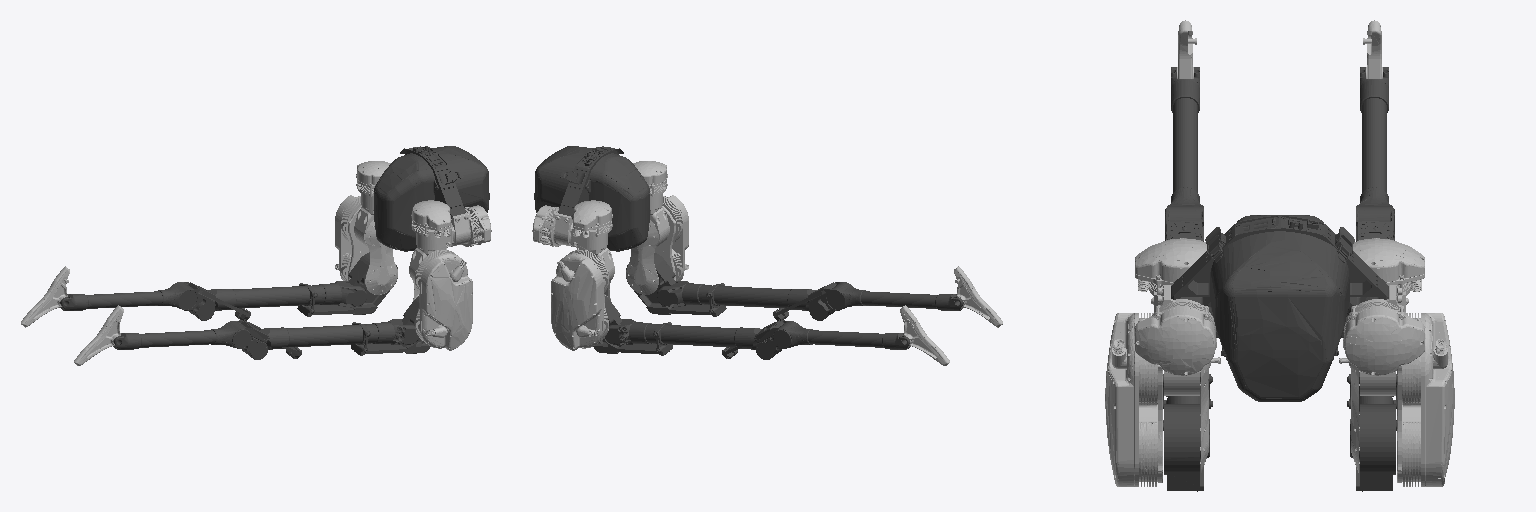
The robot description file, URDF, robot "cassie":
<?xml version="1.0" ?>
<!-- =================================================================================== -->
<!-- |    This document was autogenerated by xacro from cassie.xacro                   | -->
<!-- |    EDITING THIS FILE BY HAND IS NOT RECOMMENDED                                 | -->
<!-- =================================================================================== -->
<!-- Author: [author]
	   Email:  [email redacted]
     Date:   04/24/2016   -->
<!-- https://github.com/UMich-BipedLab/cassie_description/blob/master/urdf/cassie.urdf -->
<!-- * The meshes have been decimated to greatly reduce their size.
     * The mesh paths have been updated.
     * 'continuous' joint type has been replaced by 'revolute' when unrealistic lower and upper bounds were specified.
-->
<robot name="cassie" xmlns:xacro="http://ros.org/wiki/xacro">
  <link name="vectorNav">
    <inertial>
      <origin rpy="0 0 0" xyz="0 0 0"/>
      <mass value="0"/>
      <inertia ixx="0" ixy="0" ixz="0" iyy="0" iyz="0" izz="0"/>
    </inertial>
  </link>
  <link name="pelvis">
    <inertial>
      <origin rpy="0 0 0" xyz=".0507 0 .0284"/>
      <mass value="10.33"/>
      <inertia ixx=".0942" ixy=".000169" ixz=".015" iyy=".084" iyz=".000516" izz=".113"/>
    </inertial>
    <visual>
      <origin rpy="0 0 0" xyz="0 0 0"/>
      <geometry>
        <mesh filename="package://meshes/pelvis.stl" scale="1 1 1"/>
      </geometry>
      <material name="grey">
        <color rgba="0.35 0.35 0.35 1"/>
      </material>
    </visual>
  </link>
  <link name="left_pelvis_abduction">
    <inertial>
      <origin rpy="0 0 0" xyz="0 0 0"/>
      <mass value="0"/>
      <inertia ixx="0" ixy="0" ixz="0" iyy="0" iyz="0" izz="0"/>
    </inertial>
    <visual>
      <origin rpy="0 0 0" xyz="0 0 0"/>
      <geometry>
        <mesh filename="package://meshes/abduction.stl" scale="1 1 1"/>
      </geometry>
      <material name="light_grey">
        <color rgba="0.75 0.75 0.75 1"/>
      </material>
    </visual>
  </link>
  <link name="left_pelvis_rotation">
    <inertial>
      <origin rpy="0 0 0" xyz=".0257 0.0001 .0179"/>
      <mass value="1.82"/>
      <inertia ixx=".00272" ixy="7.03e-07" ixz=".00000153" iyy=".00559" iyz="2.61e-06" izz=".004640"/>
    </inertial>
    <visual>
      <origin rpy="0 0 0" xyz="0 0 0"/>
      <geometry>
        <mesh filename="package://meshes/yaw.stl" scale="1 1 1"/>
      </geometry>
      <material name="light_grey">
        <color rgba="0.75 0.75 0.75 1"/>
      </material>
    </visual>
  </link>
  <link name="left_hip">
    <inertial>
      <origin rpy="0 0 0" xyz="-.0557 0 0"/>
      <mass value="1.17"/>
      <inertia ixx=".000842" ixy=".000000246" ixz="-.000000625" iyy=".006080" iyz="-.00000004" izz=".006440"/>
    </inertial>
    <visual>
      <origin rpy="0 0 0" xyz="0 0 0"/>
      <geometry>
        <mesh filename="package://meshes/hip.stl" scale="1 1 1"/>
      </geometry>
      <material name="light_grey">
        <color rgba="0.75 0.75 0.75 1"/>
      </material>
    </visual>
  </link>
  <link name="left_thigh">
    <inertial>
      <origin rpy="0 0 0" xyz=".0598 .0001 -0.0358"/>
      <mass value="5.52"/>
      <inertia ixx=".018" ixy=".000284" ixz="-0.0117" iyy=".0563" iyz="-1.93e-05" izz=".0498"/>
    </inertial>
    <visual>
      <origin rpy="0 0 0" xyz="0 0 0"/>
      <geometry>
        <mesh filename="package://meshes/thigh.stl" scale="1 1 1"/>
      </geometry>
      <material name="light_grey">
        <color rgba="0.75 0.75 0.75 1"/>
      </material>
    </visual>
  </link>
  <link name="left_knee">
    <inertial>
      <origin rpy="0 0 0" xyz=".023 .0321 -0.0022"/>
      <mass value=".758"/>
      <inertia ixx=".002160" ixy=".000956" ixz="2.84e-06" iyy=".00144" iyz="7.39e-07" izz=".00334"/>
    </inertial>
    <visual>
      <origin rpy="0 0 0" xyz="0 0 0"/>
      <geometry>
        <mesh filename="package://meshes/knee-output.stl" scale="1 1 1"/>
      </geometry>
      <material name="grey">
        <color rgba="0.35 0.35 0.35 1"/>
      </material>
    </visual>
  </link>
  <link name="left_shin">
    <inertial>
      <origin rpy="0 0 0" xyz=".1834 .0012 0.0002"/>
      <mass value=".577"/>
      <inertia ixx=".000360" ixy=".000334" ixz="-1.94e-07" iyy=".0341" iyz="2.65e-07" izz=".0341"/>
    </inertial>
    <visual>
      <origin rpy="0 0 0" xyz="0 0 0"/>
      <geometry>
        <mesh filename="package://meshes/shin-bone.stl" scale="1 1 1"/>
      </geometry>
      <material name="grey">
        <color rgba="0.35 0.35 0.35 1"/>
      </material>
    </visual>
  </link>
  <link name="left_tarsus">
    <inertial>
      <origin rpy="0 0 0" xyz=".1105 -.0306 -0.0013"/>
      <mass value=".782"/>
      <inertia ixx=".00113" ixy="-.00288" ixz="-6.33e-05" iyy=".0231" iyz="3.62e-05" izz=".0239"/>
    </inertial>
    <visual>
      <origin rpy="0 0 0" xyz="0 0 0"/>
      <geometry>
        <mesh filename="package://meshes/tarsus.stl" scale="1 1 1"/>
      </geometry>
      <material name="grey">
        <color rgba="0.35 0.35 0.35 1"/>
      </material>
    </visual>
  </link>
  <link name="left_toe">
    <inertial>
      <origin rpy="0 0 0" xyz=".0047 .0275 -0.0001"/>
      <mass value=".15"/>
      <inertia ixx=".000287" ixy="-.0000986" ixz="-1.46e-06" iyy=".000171" iyz="1.72e-07" izz=".000449"/>
    </inertial>
    <visual>
      <origin rpy="0 0 0" xyz="0 0 0"/>
      <geometry>
        <mesh filename="package://meshes/toe.stl" scale="1 1 1"/>
      </geometry>
      <material name="light_grey">
        <color rgba="0.75 0.75 0.75 1"/>
      </material>
    </visual>
  </link>
  <link name="right_pelvis_abduction">
    <inertial>
      <origin rpy="0 0 0" xyz="0 0 0"/>
      <mass value="0"/>
      <inertia ixx="0" ixy="0" ixz="0" iyy="0" iyz="0" izz="0"/>
    </inertial>
    <visual>
      <origin rpy="0 0 0" xyz="0 0 0"/>
      <geometry>
        <mesh filename="package://meshes/abduction_mirror.stl" scale="1 1 1"/>
      </geometry>
      <material name="light_grey">
        <color rgba="0.75 0.75 0.75 1"/>
      </material>
    </visual>
  </link>
  <link name="right_pelvis_rotation">
    <inertial>
      <origin rpy="0 0 0" xyz=".0257 -0.0001 .0179"/>
      <mass value="1.82"/>
      <inertia ixx=".00272" ixy="-7.03e-07" ixz=".00000153" iyy=".00559" iyz="-2.61e-06" izz=".004640"/>
    </inertial>
    <visual>
      <origin rpy="0 0 0" xyz="0 0 0"/>
      <geometry>
        <mesh filename="package://meshes/yaw_mirror.stl" scale="1 1 1"/>
      </geometry>
      <material name="light_grey">
        <color rgba="0.75 0.75 0.75 1"/>
      </material>
    </visual>
  </link>
  <link name="right_hip">
    <inertial>
      <origin rpy="0 0 0" xyz="-.0557 0 0"/>
      <mass value="1.17"/>
      <inertia ixx=".000842" ixy=".000000246" ixz="-.000000625" iyy=".006080" iyz="-.00000004" izz=".006440"/>
    </inertial>
    <visual>
      <origin rpy="0 0 0" xyz="0 0 0"/>
      <geometry>
        <mesh filename="package://meshes/hip_mirror.stl" scale="1 1 1"/>
      </geometry>
      <material name="light_grey">
        <color rgba="0.75 0.75 0.75 1"/>
      </material>
    </visual>
  </link>
  <link name="right_thigh">
    <inertial>
      <origin rpy="0 0 0" xyz=".0598 .0001 0.0358"/>
      <mass value="5.52"/>
      <inertia ixx=".018" ixy=".000284" ixz="0.0117" iyy=".0563" iyz="1.93e-05" izz=".0498"/>
    </inertial>
    <visual>
      <origin rpy="0 0 0" xyz="0 0 0"/>
      <geometry>
        <mesh filename="package://meshes/thigh_mirror.stl" scale="1 1 1"/>
      </geometry>
      <material name="light_grey">
        <color rgba="0.75 0.75 0.75 1"/>
      </material>
    </visual>
  </link>
  <link name="right_knee">
    <inertial>
      <origin rpy="0 0 0" xyz=".023 .0321 0.0022"/>
      <mass value=".758"/>
      <inertia ixx=".002160" ixy=".000956" ixz="-2.84e-06" iyy=".00144" iyz="-7.39e-07" izz=".00334"/>
    </inertial>
    <visual>
      <origin rpy="0 0 0" xyz="0 0 0"/>
      <geometry>
        <mesh filename="package://meshes/knee-output_mirror.stl" scale="1 1 1"/>
      </geometry>
      <material name="grey">
        <color rgba="0.35 0.35 0.35 1"/>
      </material>
    </visual>
  </link>
  <link name="right_shin">
    <inertial>
      <origin rpy="0 0 0" xyz=".1834 .0012 -0.0002"/>
      <mass value=".577"/>
      <inertia ixx=".000360" ixy=".000334" ixz="1.94e-07" iyy=".0341" iyz="-2.65e-07" izz=".0341"/>
    </inertial>
    <visual>
      <origin rpy="0 0 0" xyz="0 0 0"/>
      <geometry>
        <mesh filename="package://meshes/shin-bone_mirror.stl" scale="1 1 1"/>
      </geometry>
      <material name="grey">
        <color rgba="0.35 0.35 0.35 1"/>
      </material>
    </visual>
  </link>
  <link name="right_tarsus">
    <inertial>
      <origin rpy="0 0 0" xyz=".1105 -.0306 0.0013"/>
      <mass value=".782"/>
      <inertia ixx=".00113" ixy="-.00288" ixz="6.33e-05" iyy=".0231" iyz="-3.62e-05" izz=".0239"/>
    </inertial>
    <visual>
      <origin rpy="0 0 0" xyz="0 0 0"/>
      <geometry>
        <mesh filename="package://meshes/tarsus_mirror.stl" scale="1 1 1"/>
      </geometry>
      <material name="grey">
        <color rgba="0.35 0.35 0.35 1"/>
      </material>
    </visual>
  </link>
  <link name="right_toe">
    <inertial>
      <origin rpy="0 0 0" xyz=".0047 .0275 0.0001"/>
      <mass value=".15"/>
      <inertia ixx=".000287" ixy="-.0000986" ixz="1.46e-06" iyy=".000171" iyz="-1.72e-07" izz=".000449"/>
    </inertial>
    <visual>
      <origin rpy="0 0 0" xyz="0 0 0"/>
      <geometry>
        <mesh filename="package://meshes/toe_mirror.stl" scale="1 1 1"/>
      </geometry>
      <material name="light_grey">
        <color rgba="0.75 0.75 0.75 1"/>
      </material>
    </visual>
  </link>
  <joint name="fixed_pelvis_to_vectorNav" type="fixed">
    <origin rpy="0 0 0" xyz="0.03155 0 -0.07996"/>
    <parent link="pelvis"/>
    <child link="vectorNav"/>
  </joint>
  <joint name="fixed_left" type="fixed">
    <origin rpy="0 1.57079632679 0" xyz="0.021 0.135 0"/>
    <parent link="pelvis"/>
    <child link="left_pelvis_abduction"/>
  </joint>
  <joint name="hip_abduction_left" type="revolute">
    <origin rpy="0 -1.57079632679 0" xyz="0 0 -0.07"/>
    <axis xyz="1 0 0"/>
    <parent link="left_pelvis_abduction"/>
    <child link="left_pelvis_rotation"/>
    <limit effort="112.5" lower="-0.2618" upper="0.3927" velocity="12.1475"/>
  </joint>
  <joint name="hip_rotation_left" type="revolute">
    <origin rpy="0 1.57079632679 -1.57079632679" xyz="0 0 -0.09"/>
    <axis xyz="-1 0 0"/>
    <parent link="left_pelvis_rotation"/>
    <child link="left_hip"/>
    <limit effort="112.5" lower="-0.3927" upper="0.3927" velocity="12.1475"/>
  </joint>
  <joint name="hip_flexion_left" type="revolute">
    <origin rpy="0 0 0" xyz="0 0 0"/>
    <axis xyz="0 0 1"/>
    <parent link="left_hip"/>
    <child link="left_thigh"/>
    <limit effort="195.0" lower="-0.8727" upper="1.3963" velocity="8.5085"/>
  </joint>
  <joint name="knee_joint_left" type="revolute">
    <origin rpy="0 0 0" xyz="0.12 0 0.0045"/>
    <axis xyz="0 0 1"/>
    <parent link="left_thigh"/>
    <child link="left_knee"/>
    <limit effort="195.0" lower="-2.8623" upper="-0.6458" velocity="8.5085"/>
  </joint>
  <joint name="knee_to_shin_left" type="continuous">
    <origin rpy="0 0 0" xyz="0.0607 0.0474 0"/>
    <axis xyz="0 0 1"/>
    <parent link="left_knee"/>
    <child link="left_shin"/>
    <limit effort="0.0" velocity="100"/>
  </joint>
  <joint name="ankle_joint_left" type="continuous">
    <origin rpy="0 0 0" xyz="0.4348 0.02 0"/>
    <axis xyz="0 0 1"/>
    <parent link="left_shin"/>
    <child link="left_tarsus"/>
    <limit effort="0.0" velocity="100"/>
  </joint>
  <joint name="toe_joint_left" type="revolute">
    <origin rpy="0 0 0" xyz="0.408 -0.04 0"/>
    <axis xyz="0 0 1"/>
    <parent link="left_tarsus"/>
    <child link="left_toe"/>
    <limit effort="45.0" lower="-2.4435" upper="-0.5236" velocity="11.5192"/>
  </joint>
  <joint name="fixed_right" type="fixed">
    <origin rpy="0 1.57079632679 0" xyz="0.021 -0.135 0"/>
    <parent link="pelvis"/>
    <child link="right_pelvis_abduction"/>
  </joint>
  <joint name="hip_abduction_right" type="revolute">
    <origin rpy="0 -1.57079632679 0" xyz="0 0 -0.07"/>
    <axis xyz="1 0 0"/>
    <parent link="right_pelvis_abduction"/>
    <child link="right_pelvis_rotation"/>
    <limit effort="112.5" lower="-0.3927" upper="0.2618" velocity="12.1475"/>
  </joint>
  <joint name="hip_rotation_right" type="revolute">
    <origin rpy="0 1.57079632679 -1.57079632679" xyz="0 0 -0.09"/>
    <axis xyz="-1 0 0"/>
    <parent link="right_pelvis_rotation"/>
    <child link="right_hip"/>
    <limit effort="112.5" lower="-0.3927" upper="0.3927" velocity="12.1475"/>
  </joint>
  <joint name="hip_flexion_right" type="revolute">
    <origin rpy="0 0 0" xyz="0 0 0"/>
    <axis xyz="0 0 1"/>
    <parent link="right_hip"/>
    <child link="right_thigh"/>
    <limit effort="195.0" lower="-0.8727" upper="1.3963" velocity="8.5085"/>
  </joint>
  <joint name="knee_joint_right" type="revolute">
    <origin rpy="0 0 0" xyz="0.12 0 -0.0045"/>
    <axis xyz="0 0 1"/>
    <parent link="right_thigh"/>
    <child link="right_knee"/>
    <limit effort="195.0" lower="-2.8623" upper="-0.6458" velocity="8.5085"/>
  </joint>
  <joint name="knee_to_shin_right" type="continuous">
    <origin rpy="0 0 0" xyz="0.0607 0.0474 0"/>
    <axis xyz="0 0 1"/>
    <parent link="right_knee"/>
    <child link="right_shin"/>
    <limit effort="0.0" velocity="100"/>
  </joint>
  <joint name="ankle_joint_right" type="continuous">
    <origin rpy="0 0 0" xyz="0.4348 0.02 0"/>
    <axis xyz="0 0 1"/>
    <parent link="right_shin"/>
    <child link="right_tarsus"/>
    <limit effort="0.0" velocity="100"/>
  </joint>
  <joint name="toe_joint_right" type="revolute">
    <origin rpy="0 0 0" xyz="0.408 -0.04 0"/>
    <axis xyz="0 0 1"/>
    <parent link="right_tarsus"/>
    <child link="right_toe"/>
    <limit effort="45.0" lower="-2.4435" upper="-0.5236" velocity="11.5192"/>
  </joint>
  <transmission name="hip_abduction_trans_left" type="transmission_interface/SimpleTransmission">
    <joint name="hip_abduction_left"/>
    <actuator name="hip_abduction_motor_left"/>
    <motorInertia>0.000061</motorInertia>
    <mechanicalReduction>25</mechanicalReduction>
  </transmission>
  <transmission name="hip_rotation_trans_left" type="transmission_interface/SimpleTransmission">
    <joint name="hip_rotation_left"/>
    <actuator name="hip_rotation_motor_left"/>
    <motorInertia>0.000061</motorInertia>
    <mechanicalReduction>25</mechanicalReduction>
  </transmission>
  <transmission name="hip_flexion_trans_left" type="transmission_interface/SimpleTransmission">
    <joint name="hip_flexion_left"/>
    <actuator name="hip_flexion_motor_left"/>
    <motorInertia>0.000365</motorInertia>
    <mechanicalReduction>16</mechanicalReduction>
  </transmission>
  <transmission name="knee_joint_trans_left" type="transmission_interface/SimpleTransmission">
    <joint name="knee_joint_left"/>
    <actuator name="knee_joint_motor_left"/>
    <motorInertia>0.000365</motorInertia>
    <mechanicalReduction>16</mechanicalReduction>
  </transmission>
  <transmission name="toe_joint_trans_left" type="transmission_interface/SimpleTransmission">
    <joint name="toe_joint_left"/>
    <actuator name="toe_joint_motor_left"/>
    <motorInertia>0.0000049</motorInertia>
    <mechanicalReduction>50</mechanicalReduction>
  </transmission>
  <transmission name="hip_abduction_trans_right" type="transmission_interface/SimpleTransmission">
    <joint name="hip_abduction_right"/>
    <actuator name="hip_abduction_motor_right"/>
    <motorInertia>0.000061</motorInertia>
    <mechanicalReduction>25</mechanicalReduction>
  </transmission>
  <transmission name="hip_rotation_trans_right" type="transmission_interface/SimpleTransmission">
    <joint name="hip_rotation_right"/>
    <actuator name="hip_rotation_motor_right"/>
    <motorInertia>0.000061</motorInertia>
    <mechanicalReduction>25</mechanicalReduction>
  </transmission>
  <transmission name="hip_flexion_trans_right" type="transmission_interface/SimpleTransmission">
    <joint name="hip_flexion_right"/>
    <actuator name="hip_flexion_motor_right"/>
    <motorInertia>0.000365</motorInertia>
    <mechanicalReduction>16</mechanicalReduction>
  </transmission>
  <transmission name="knee_joint_trans_right" type="transmission_interface/SimpleTransmission">
    <joint name="knee_joint_right"/>
    <actuator name="knee_joint_motor_right"/>
    <motorInertia>0.000365</motorInertia>
    <mechanicalReduction>16</mechanicalReduction>
  </transmission>
  <transmission name="toe_joint_trans_right" type="transmission_interface/SimpleTransmission">
    <joint name="toe_joint_right"/>
    <actuator name="toe_joint_motor_right"/>
    <motorInertia>0.0000049</motorInertia>
    <mechanicalReduction>50</mechanicalReduction>
  </transmission>
</robot>

--- Facts derived from the render (not from the file) ---
Views: 3 orthographic renders of the robot side by side, from view 1: azimuth 30°, elevation 25°; view 2: azimuth 150°, elevation 25°; view 3: azimuth 270°, elevation 25°.
Robot: cassie — 18 links, 17 joints (10 revolute, 4 continuous, 3 fixed); root link pelvis; default pose: all joints at 0 but 4 set to mid-range because 0 is outside their limits (knee_joint_left = -1.75, toe_joint_left = -1.48, knee_joint_right = -1.75, toe_joint_right = -1.48).
Visible links, largest first — view 1: pelvis, right_thigh, left_thigh, right_shin, left_tarsus, left_shin, right_tarsus, right_pelvis_rotation, left_knee, right_pelvis_abduction, right_toe, right_knee (+2 smaller); view 2: pelvis, left_thigh, right_thigh, left_shin, right_tarsus, right_shin, left_tarsus, left_pelvis_rotation, right_knee, left_pelvis_abduction, left_toe, left_knee (+2 smaller); view 3: pelvis, right_thigh, left_thigh, left_pelvis_abduction, right_pelvis_abduction, left_tarsus, right_tarsus, left_knee, right_knee, left_pelvis_rotation, right_pelvis_rotation, left_toe (+3 smaller).
Link boxes in pixels (x1,y1,x2,y2): pelvis: (374,146,489,251); right_thigh: (413,250,472,350); left_thigh: (335,195,397,294); right_shin: (244,319,418,353); left_tarsus: (60,282,250,320); left_shin: (192,281,366,314); right_tarsus: (113,320,301,359); right_pelvis_rotation: (411,200,454,249); left_knee: (297,253,397,316); right_pelvis_abduction: (451,205,491,246); right_toe: (74,305,123,365); right_knee: (351,296,430,355); pelvis: (534,146,649,251); left_thigh: (551,250,610,350); right_thigh: (626,195,688,294); left_shin: (605,319,779,353); right_tarsus: (773,282,963,320); right_shin: (657,281,831,315); left_tarsus: (722,320,910,359); left_pelvis_rotation: (569,200,612,249); right_knee: (626,253,726,316); left_pelvis_abduction: (532,205,572,246); left_toe: (900,305,949,365); left_knee: (593,296,672,355); pelvis: (1171,215,1388,401); right_thigh: (1105,313,1220,486); left_thigh: (1339,313,1454,486); left_pelvis_abduction: (1343,285,1424,375); right_pelvis_abduction: (1135,285,1216,375); left_tarsus: (1356,67,1394,241); right_tarsus: (1165,67,1203,241); left_knee: (1347,399,1395,491); right_knee: (1164,399,1212,491); left_pelvis_rotation: (1353,238,1424,311); right_pelvis_rotation: (1135,238,1206,311); left_toe: (1363,20,1382,78).
Bounding box of the posed robot: 1.22 × 0.4825 × 0.463 m (x, y, z).
17 mesh visuals loaded from 17 distinct referenced files (17 binary STL).
